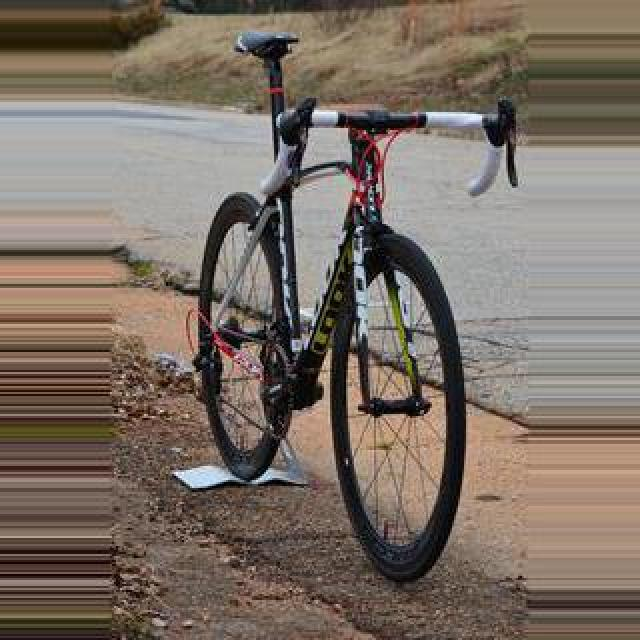Person: (188, 22, 504, 592)
